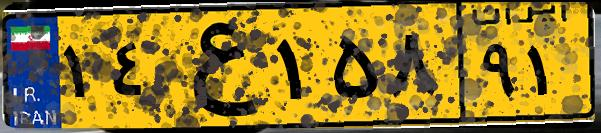1: (270, 28, 330, 110), (57, 26, 110, 100), (525, 38, 570, 115)
4: (110, 28, 158, 98)
5: (330, 28, 385, 110)
8: (385, 28, 445, 110)
9: (475, 38, 525, 113)
ع: (158, 12, 270, 120)
